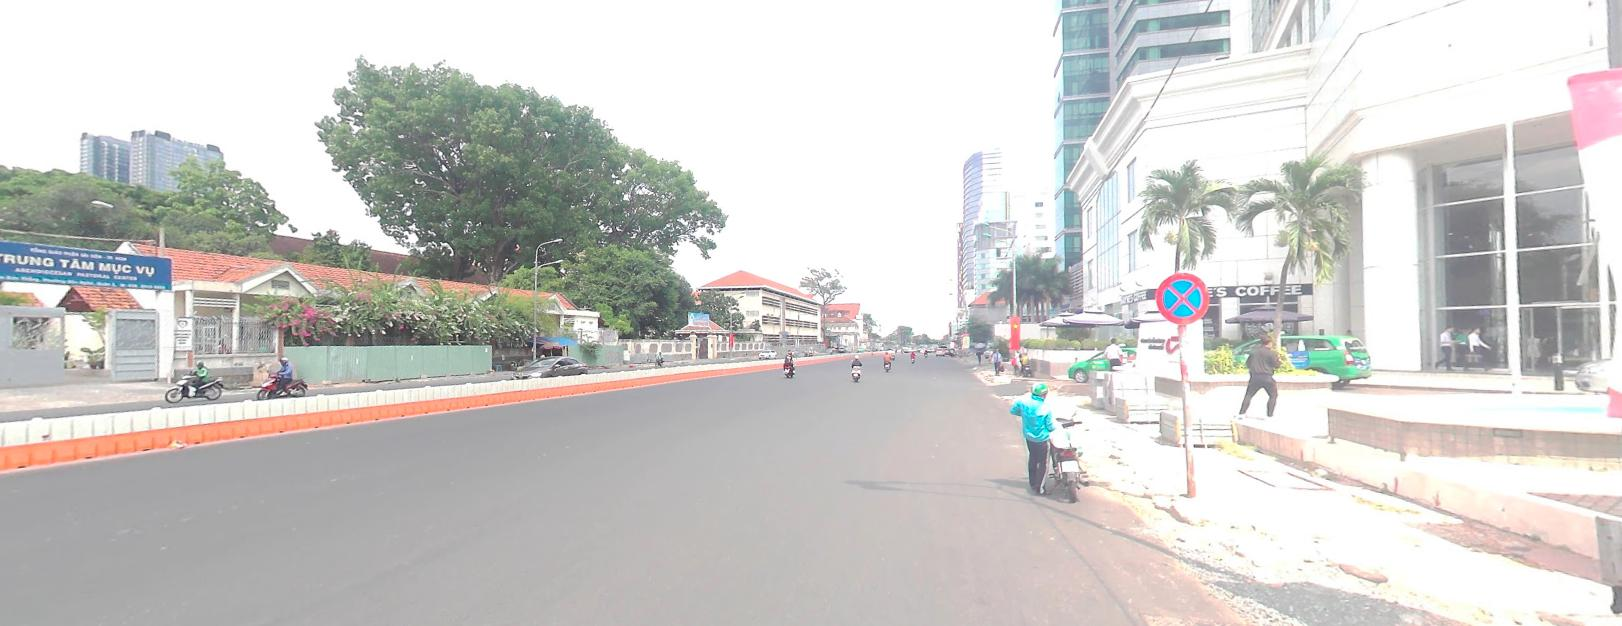Cam dung va do: (1155, 271, 1209, 323)
